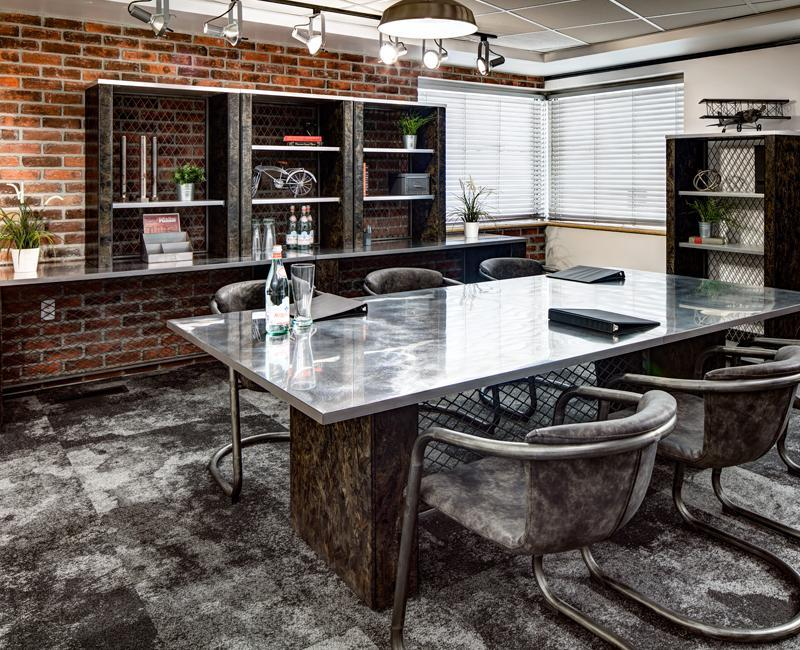conference_table: (167, 266, 800, 613)
